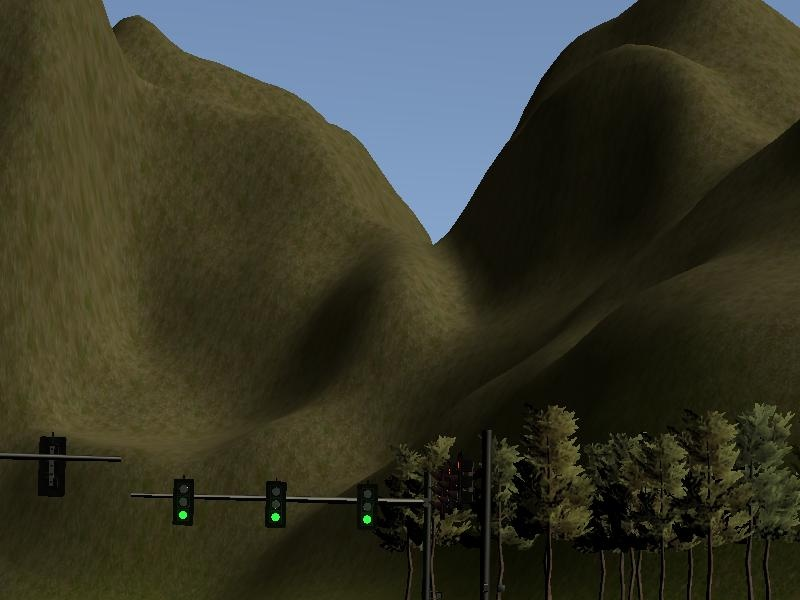traffic_light_green: (129, 477, 400, 530)
